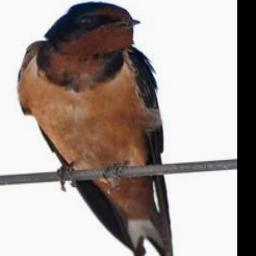Swallow: (15, 0, 187, 256)
